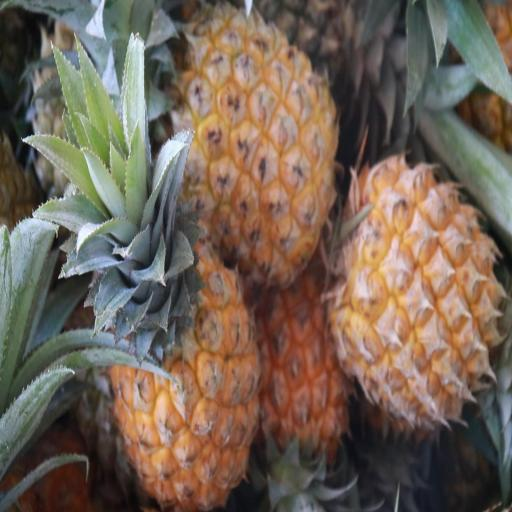Pineapple - v8 v1: (107, 180, 257, 510), (340, 156, 508, 428), (172, 9, 341, 276), (256, 257, 362, 489)
